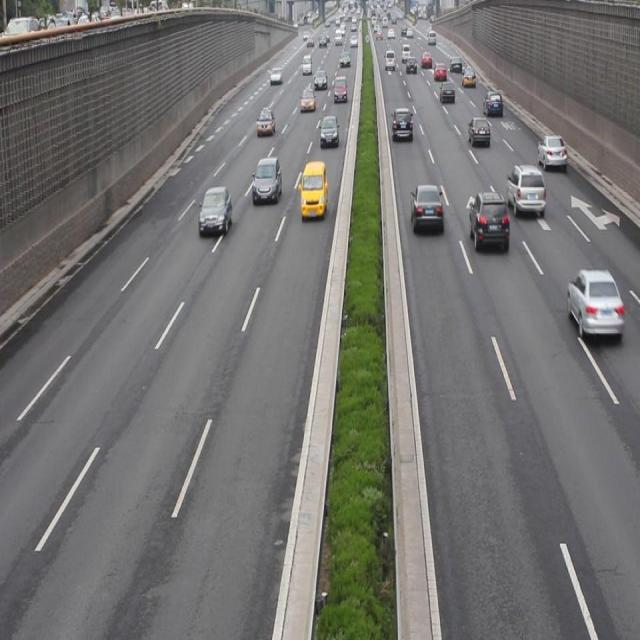car: (566, 264, 622, 342), (468, 190, 508, 254), (506, 163, 545, 217), (409, 184, 444, 237), (199, 184, 232, 238), (252, 154, 281, 203), (536, 131, 566, 174), (467, 115, 490, 150), (392, 107, 413, 143), (318, 115, 338, 147), (256, 106, 275, 138)
truck: (298, 160, 327, 218)
